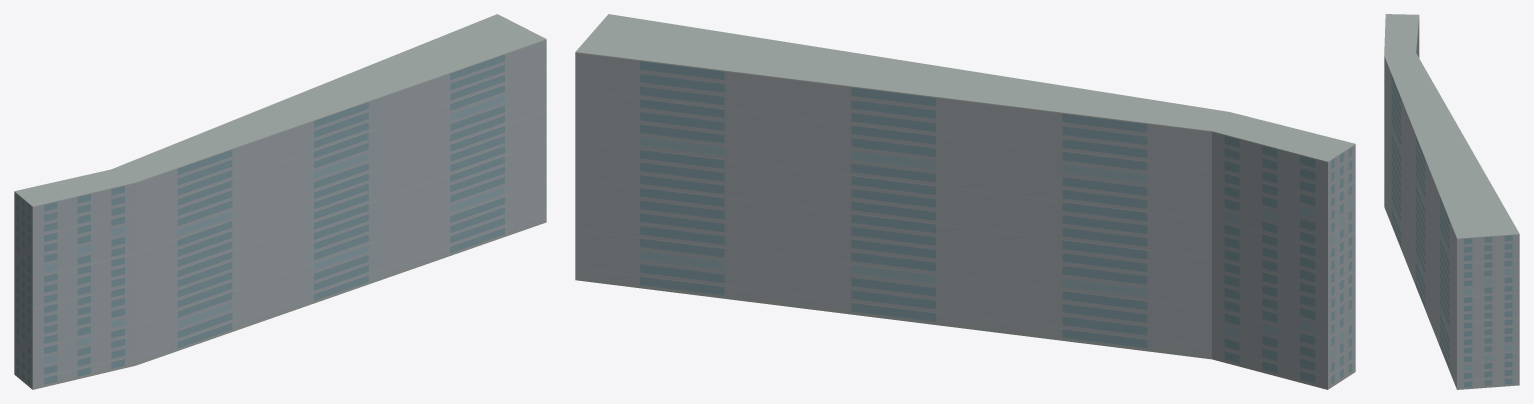
Rendered from residential-978c9324-717f-4bd7-a3ae-ef7de8596710.glb.
3 views of the same model, side by side, from view 1: azimuth 30°, elevation 25°; view 2: azimuth 150°, elevation 25°; view 3: azimuth 270°, elevation 25° (orthographic). The views are drawn at different scales.
Parts seen in each view (by area): view 1: residential-978c9324-717f-4bd7-a3ae-ef7de8596710.tmp; view 2: residential-978c9324-717f-4bd7-a3ae-ef7de8596710.tmp; view 3: residential-978c9324-717f-4bd7-a3ae-ef7de8596710.tmp.
Part boxes in pixels (x1,y1,x2,y2): residential-978c9324-717f-4bd7-a3ae-ef7de8596710.tmp: (14, 14, 546, 389); residential-978c9324-717f-4bd7-a3ae-ef7de8596710.tmp: (575, 14, 1355, 389); residential-978c9324-717f-4bd7-a3ae-ef7de8596710.tmp: (1384, 14, 1519, 389).
Bounding box in the file's own units: 191 × 60 × 48.72.
